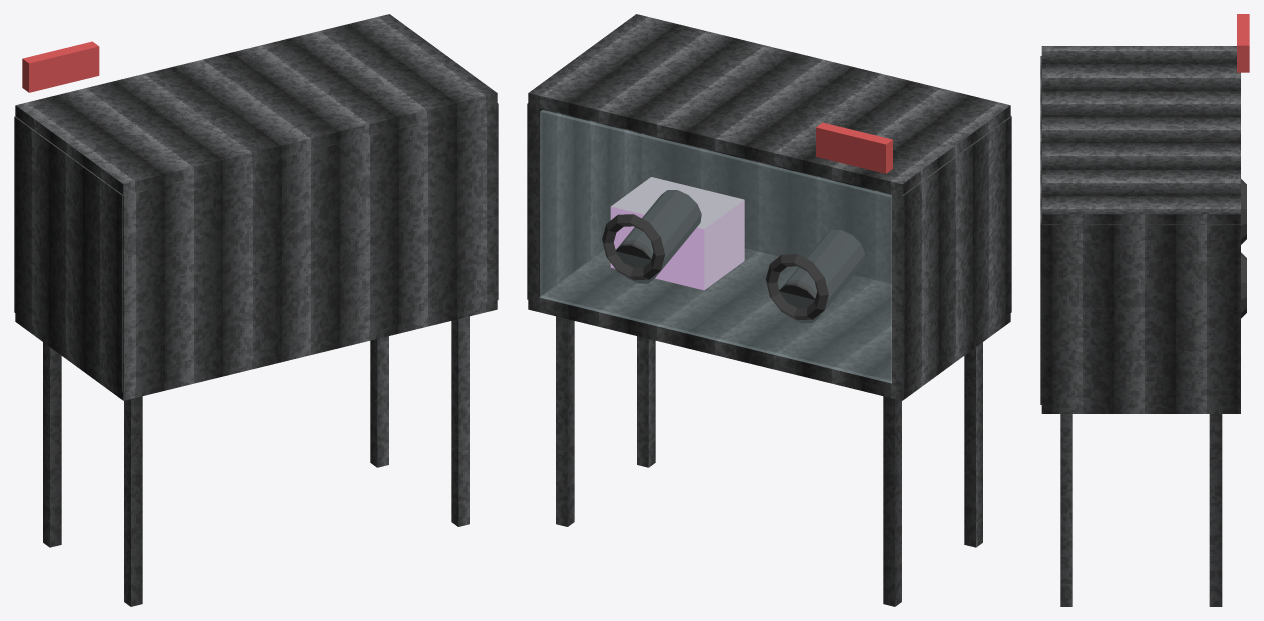
File: glovebox.glb
3 renders of one model, left to right at view 1: azimuth 30°, elevation 25°; view 2: azimuth 150°, elevation 25°; view 3: azimuth 270°, elevation 25°, orthographic. The views are drawn at different scales.
Visible parts, largest first — view 1: glovebox; view 2: glovebox; view 3: glovebox.
Part boxes in pixels (<box>): glovebox: <box>14,14,498,606</box>; glovebox: <box>527,14,1011,606</box>; glovebox: <box>1040,14,1249,606</box>.
Bounding box in the file's own units: 1.61 × 1.94 × 0.84.
Materials: 5 (1 with a texture image).
